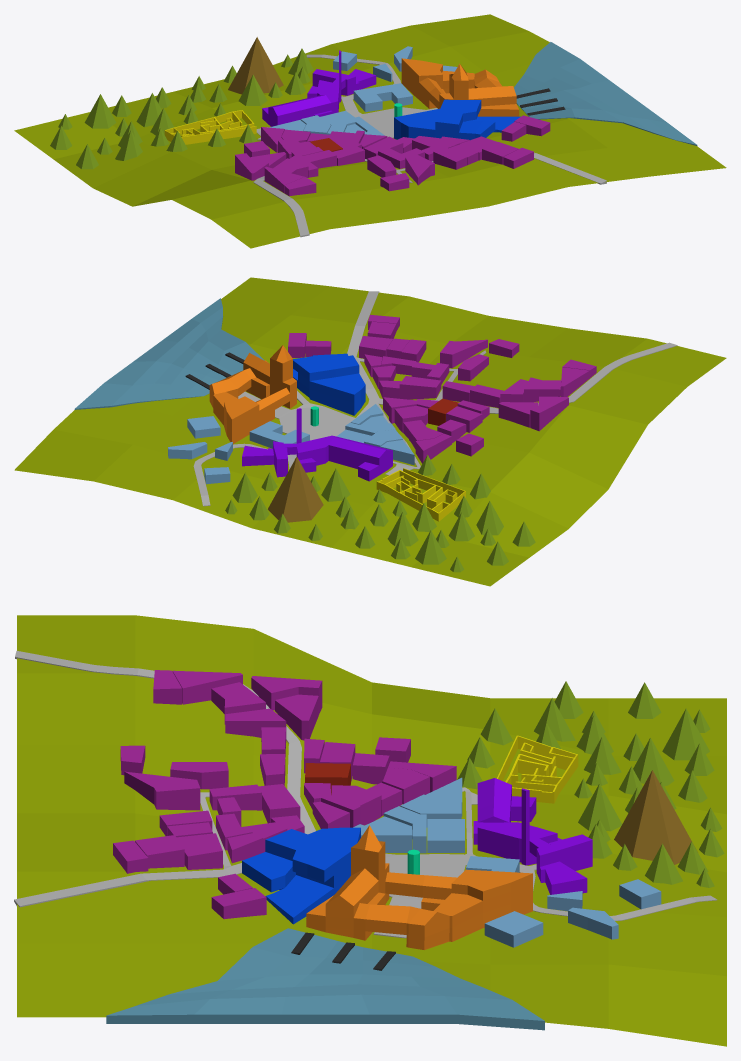
Rendered from BolckoutMAP.fbx.
3 renders of one model, top to bottom at view 1: azimuth 30°, elevation 25°; view 2: azimuth 150°, elevation 25°; view 3: azimuth 270°, elevation 25°, orthographic. The views are drawn at different scales.
Parts seen in each view (by area): view 1: Yer, Cube.048, Church, Hospital, Cube, roads, graveyard, tree.030, Cube.046, Cube.042, Cube.036, tree.023 (+17 smaller); view 2: Yer, Cube.048, roads, Church, Cube, Hospital, graveyard, tree.030, Cube.046, Cube.036, Cube.023, Cube.042 (+17 smaller); view 3: Yer, Cube.048, Church, roads, Cube, Hospital, tree.030, graveyard, Cube.042, Cube.036, Cube.039, Cube.021 (+39 smaller).
Part boxes in pixels (left/top/right/bottom): Yer: left=14, top=14, right=726, bottom=248; Cube.048: left=514, top=42, right=697, bottom=145; Church: left=401, top=58, right=519, bottom=116; Hospital: left=394, top=99, right=520, bottom=140; Cube: left=262, top=50, right=376, bottom=126; roads: left=253, top=54, right=606, bottom=237; graveyard: left=164, top=110, right=256, bottom=144; tree.030: left=228, top=37, right=283, bottom=94; Cube.046: left=353, top=83, right=412, bottom=112; Cube.042: left=405, top=154, right=434, bottom=185; Cube.036: left=235, top=153, right=268, bottom=180; tree.023: left=84, top=94, right=116, bottom=128; Yer: left=14, top=277, right=726, bottom=586; Cube.048: left=74, top=298, right=264, bottom=409; roads: left=193, top=291, right=677, bottom=506; Church: left=209, top=345, right=296, bottom=443; Cube: left=242, top=408, right=392, bottom=481; Hospital: left=293, top=353, right=365, bottom=415; graveyard: left=376, top=468, right=465, bottom=521; tree.030: left=268, top=456, right=323, bottom=522; Cube.046: left=249, top=421, right=309, bottom=448; Cube.036: left=530, top=396, right=568, bottom=431; Cube.023: left=399, top=376, right=441, bottom=399; Cube.042: left=440, top=339, right=487, bottom=368; Yer: left=17, top=615, right=726, bottom=1046; Cube.048: left=106, top=928, right=544, bottom=1030; Church: left=306, top=825, right=532, bottom=949; roads: left=14, top=651, right=717, bottom=938; Cube: left=473, top=778, right=592, bottom=894; Hospital: left=242, top=827, right=360, bottom=924; tree.030: left=614, top=770, right=697, bottom=864; graveyard: left=497, top=735, right=578, bottom=803; Cube.042: left=124, top=771, right=200, bottom=810; Cube.036: left=251, top=676, right=322, bottom=714; Cube.039: left=484, top=911, right=543, bottom=947; Cube.021: left=172, top=670, right=242, bottom=704.
Size of the model in its own units: 11845 by 1807 by 10238.
